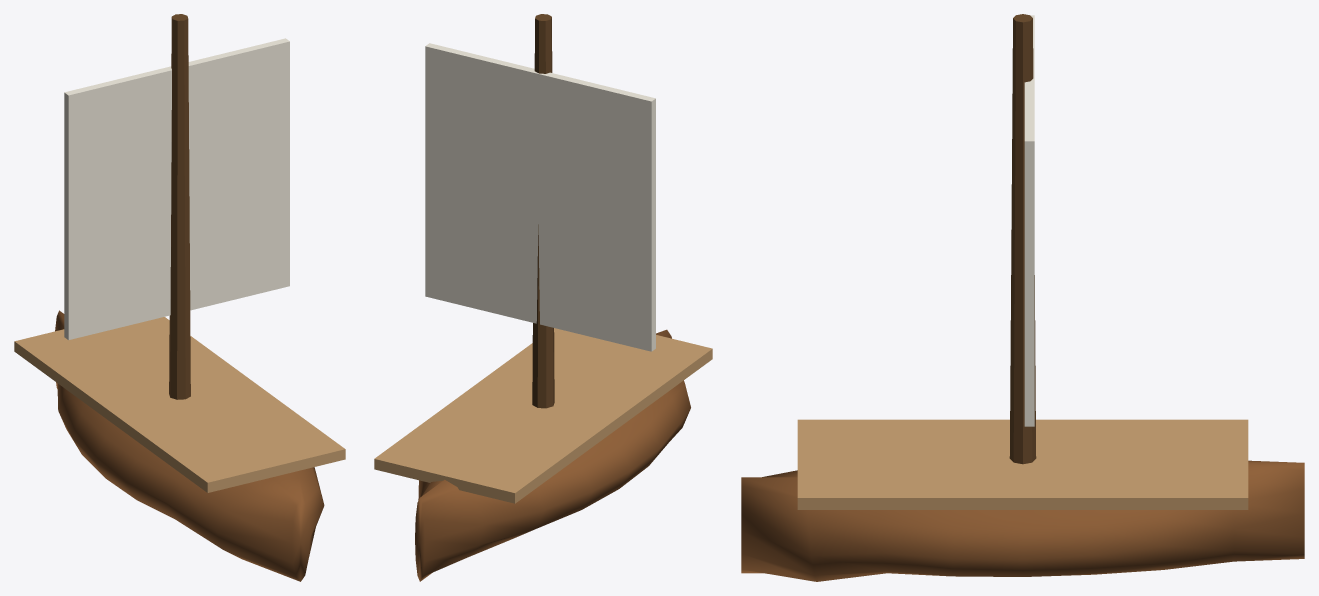
The model's file is veh_sailboat.glb.
3 renders of one model, left to right at view 1: azimuth 30°, elevation 25°; view 2: azimuth 150°, elevation 25°; view 3: azimuth 270°, elevation 25°, orthographic. The views are drawn at different scales.
Visible parts, largest first — view 1: sail, deck, hull, mast; view 2: sail, deck, hull, mast; view 3: hull, deck, mast, sail.
Boxes of the visible parts, x1=… form: sail: x1=64, y1=38, x2=289, y2=340; deck: x1=14, y1=317, x2=345, y2=492; hull: x1=55, y1=310, x2=324, y2=581; mast: x1=169, y1=14, x2=190, y2=399; sail: x1=425, y1=43, x2=655, y2=351; deck: x1=374, y1=328, x2=712, y2=503; hull: x1=415, y1=329, x2=690, y2=581; mast: x1=532, y1=14, x2=554, y2=408; hull: x1=741, y1=460, x2=1304, y2=581; deck: x1=797, y1=419, x2=1248, y2=509; mast: x1=1009, y1=14, x2=1036, y2=464; sail: x1=1024, y1=15, x2=1034, y2=426.
Size of the model in its own units: 0.9 by 1.85 by 1.7.
